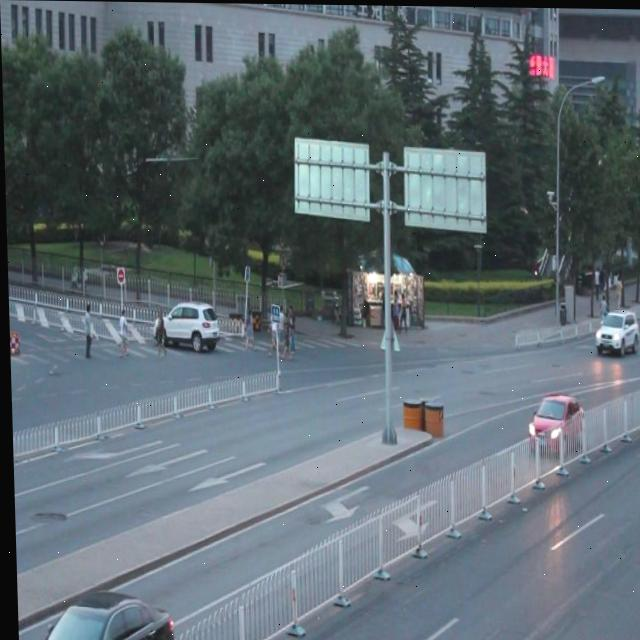car: (14, 586, 171, 640), (522, 389, 582, 452), (151, 299, 218, 350), (591, 306, 636, 348), (627, 620, 640, 640)
